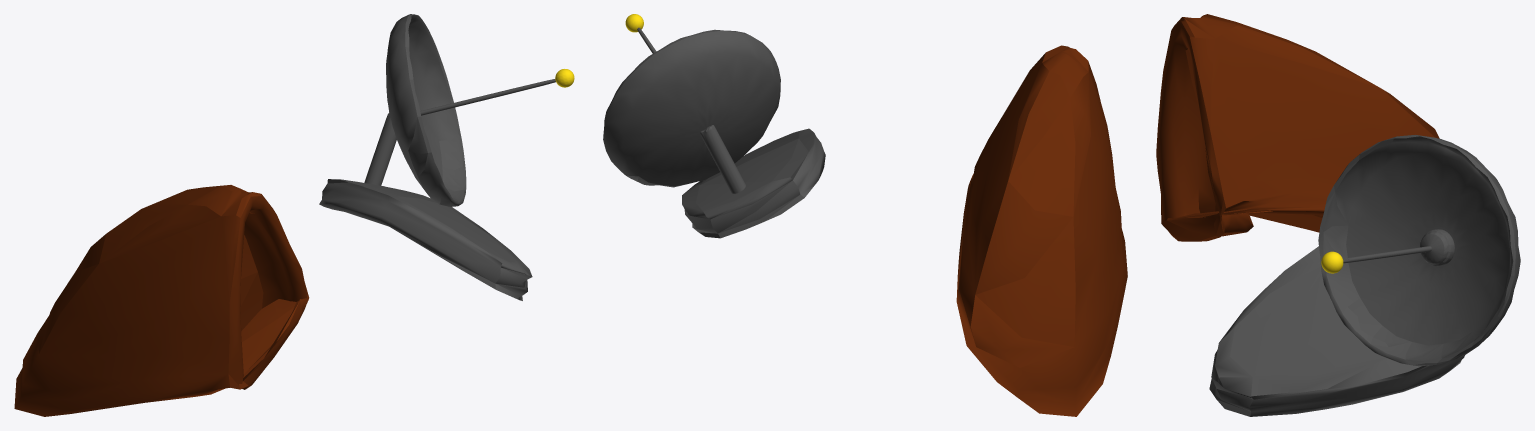
The picture shows the model from 3 angles, left to right: view 1: azimuth 30°, elevation 25°; view 2: azimuth 150°, elevation 25°; view 3: azimuth 270°, elevation 25°; orthographic projection. The views are drawn at different scales.
Visible parts, largest first — view 1: ears_006.001, Elec_Hat_08; view 2: ears_006.001, Elec_Hat_08; view 3: Elec_Hat_08, ears_006.001.
Part boxes in pixels (x1=…): ears_006.001: x1=14, y1=185, x2=309, y2=416; Elec_Hat_08: x1=319, y1=14, x2=574, y2=300; ears_006.001: x1=956, y1=45, x2=1127, y2=416; Elec_Hat_08: x1=603, y1=14, x2=825, y2=238; Elec_Hat_08: x1=1209, y1=135, x2=1520, y2=416; ears_006.001: x1=1156, y1=14, x2=1439, y2=241.
Size of the model in its own units: 105 by 55.69 by 58.18.
